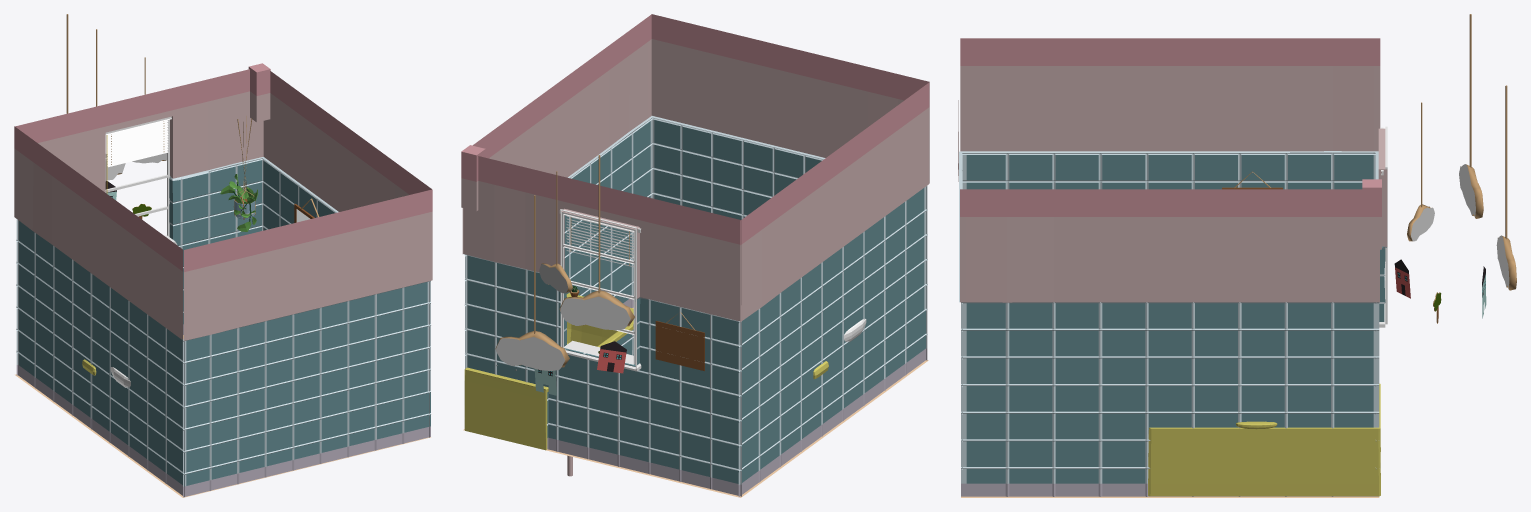
The picture shows the model from 3 angles, left to right: view 1: azimuth 30°, elevation 25°; view 2: azimuth 150°, elevation 25°; view 3: azimuth 270°, elevation 25°; orthographic projection. The views are drawn at different scales.
Visible parts, largest first — view 1: Wall_Front, Wall_Left, Wall_Window, Wall_Right, Blinds_Up, Hanging, Accent, Blinds_Down, Floor, Window; view 2: Wall_Window, Wall_Left, Wall_Front, Wall_Right, Bath, Window, Cloud, Cloud.001, Email, Accent, Floor, Cloud.002 (+3 smaller); view 3: Wall_Right, Wall_Left, Bath, Accent, Cloud, Wall_Window, Cloud.001, Cloud.002, Floor.
Part boxes in pixels (<box>): Wall_Front: <box>183,189,432,497</box>; Wall_Left: <box>14,126,184,496</box>; Wall_Window: <box>15,69,263,375</box>; Wall_Right: <box>262,71,431,437</box>; Blinds_Up: <box>107,120,168,156</box>; Hanging: <box>220,116,258,231</box>; Accent: <box>248,63,270,122</box>; Blinds_Down: <box>107,132,168,167</box>; Floor: <box>15,335,430,497</box>; Window: <box>105,119,177,244</box>; Wall_Window: <box>463,156,741,496</box>; Wall_Left: <box>738,82,929,496</box>; Wall_Front: <box>651,14,929,360</box>; Wall_Right: <box>462,14,652,368</box>; Bath: <box>464,293,633,450</box>; Window: <box>560,209,641,371</box>; Cloud: <box>559,155,634,330</box>; Cloud.001: <box>495,195,569,370</box>; Email: <box>655,312,704,370</box>; Accent: <box>461,145,485,211</box>; Floor: <box>463,307,928,497</box>; Cloud.002: <box>539,171,572,293</box>; Wall_Right: <box>960,189,1379,496</box>; Wall_Left: <box>960,38,1380,189</box>; Bath: <box>1148,383,1380,496</box>; Accent: <box>1362,179,1381,249</box>; Cloud: <box>1459,14,1483,218</box>; Wall_Window: <box>1375,128,1387,468</box>; Cloud.001: <box>1496,85,1516,290</box>; Cloud.002: <box>1407,102,1434,241</box>; Floor: <box>961,496,1379,497</box>.
Bounding box in the file's own units: 42.06 × 53.07 × 64.61.
43 materials, 3 textured.
